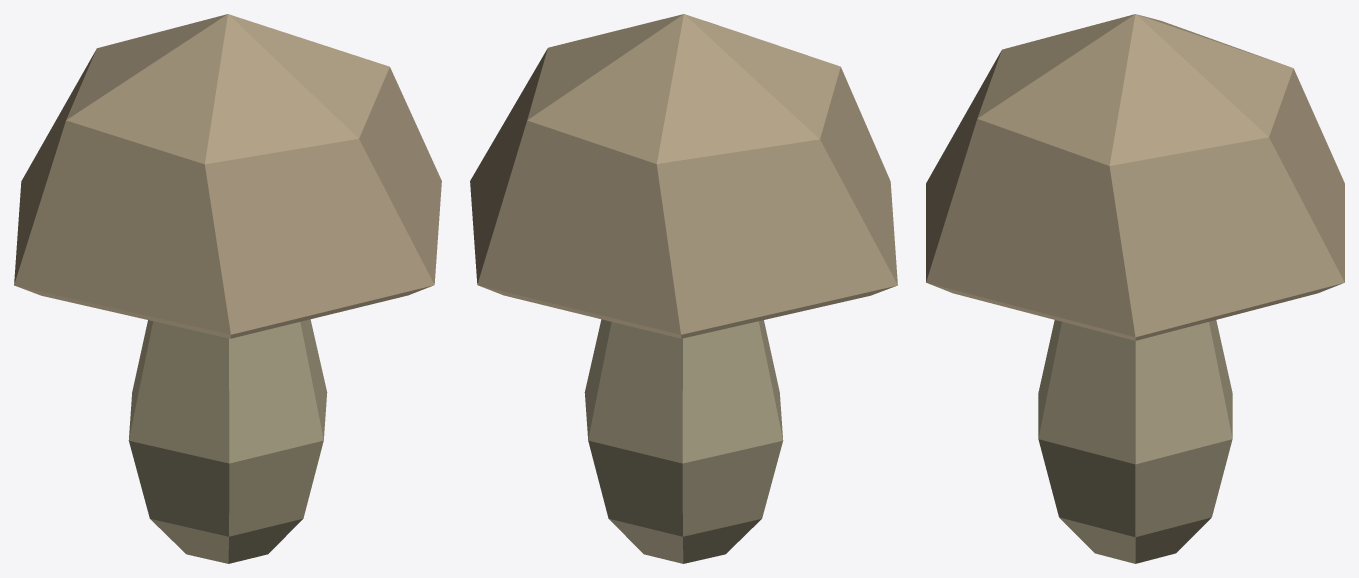
Rendered from Mushroom-B01.fbx.
The picture shows the model from 3 angles, left to right: view 1: azimuth 30°, elevation 25°; view 2: azimuth 150°, elevation 25°; view 3: azimuth 270°, elevation 25°; orthographic projection.
Parts seen in each view (by area): view 1: Mushroom-B01; view 2: Mushroom-B01; view 3: Mushroom-B01.
Boxes of the visible parts, x1,y1,x2,y2 form: Mushroom-B01: (14, 14, 441, 563); Mushroom-B01: (470, 14, 897, 563); Mushroom-B01: (926, 14, 1344, 563).
Bounding box in the file's own units: 71.62 × 84.8 × 60.77.
